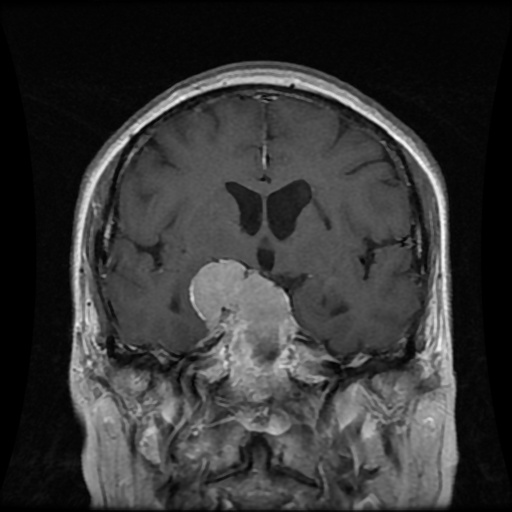meningioma: (191, 258, 296, 359)
